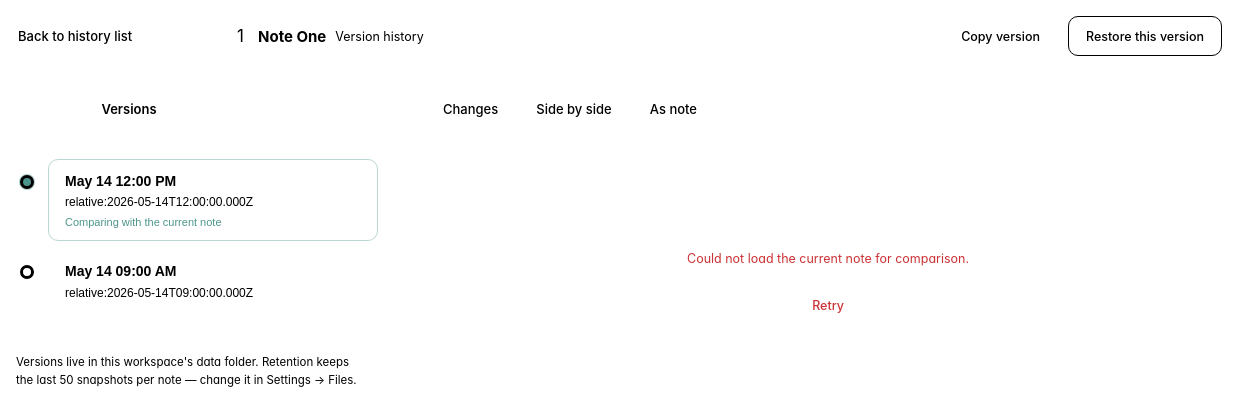
Test: HistoryView › shows a retryable current-note error instead of claiming there are no differences
Expected: the message with class "history-diff-pane__state--error" shows "Could not load the current note for comparison", x1=687 y1=251 x2=969 y2=266
Click the button with class "history-diff-pane__retry".
click(828, 306)  # box x1=799 y1=292 x2=857 y2=320
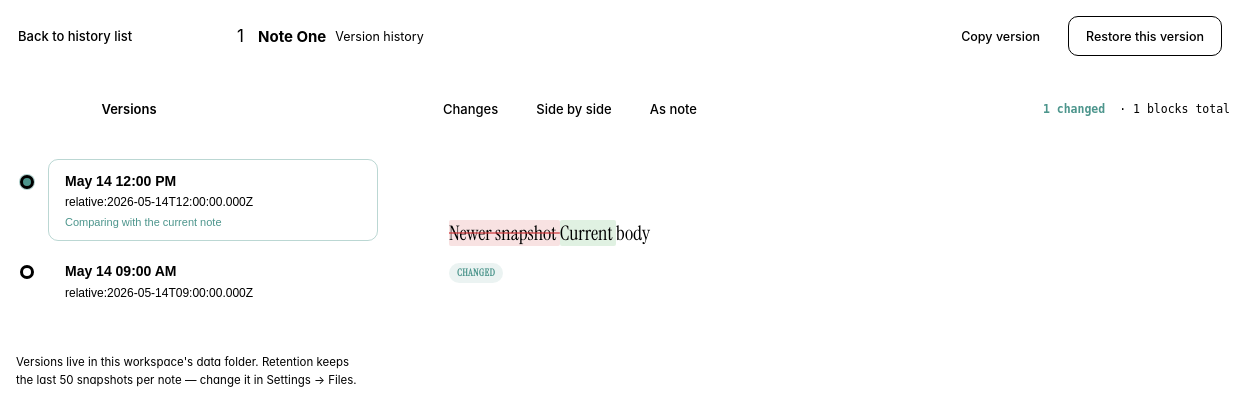
Expected: the message with class "history-diff-pane__state--error" is gone
Expected: the text "Newer snapshot" is shown, x1=449 y1=220 x2=560 y2=246
